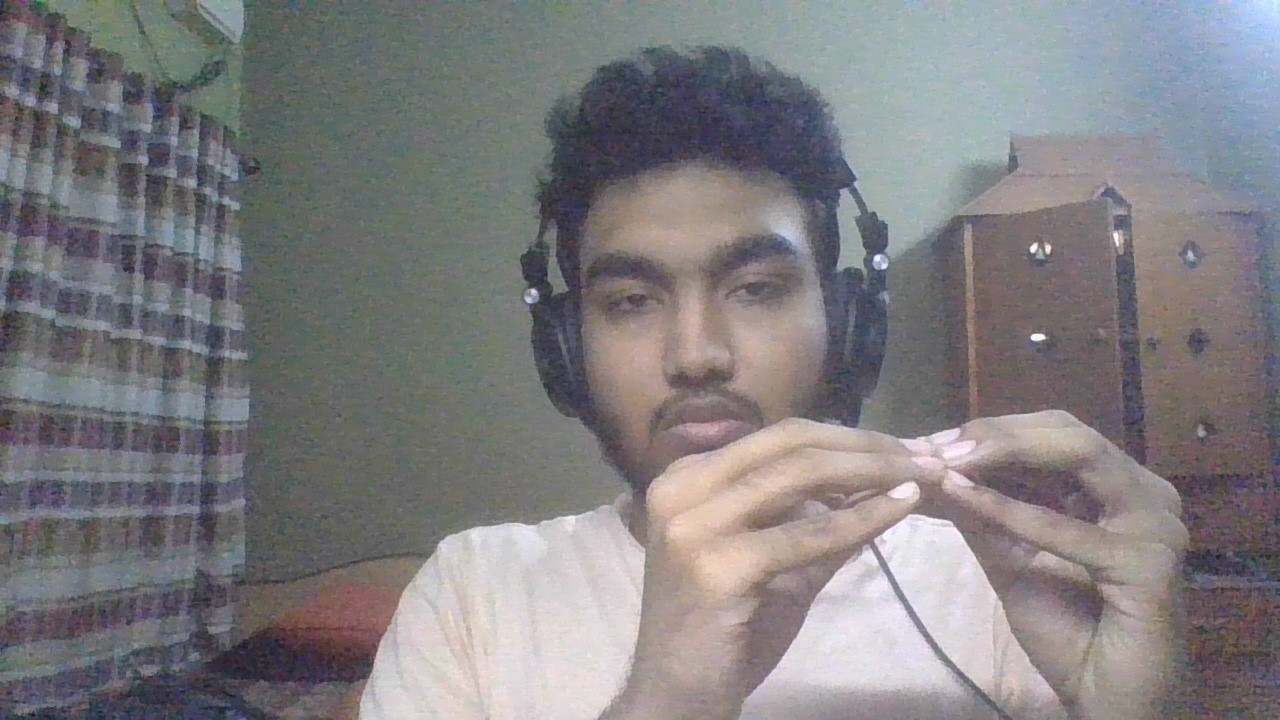More: (633, 410, 1206, 701)
